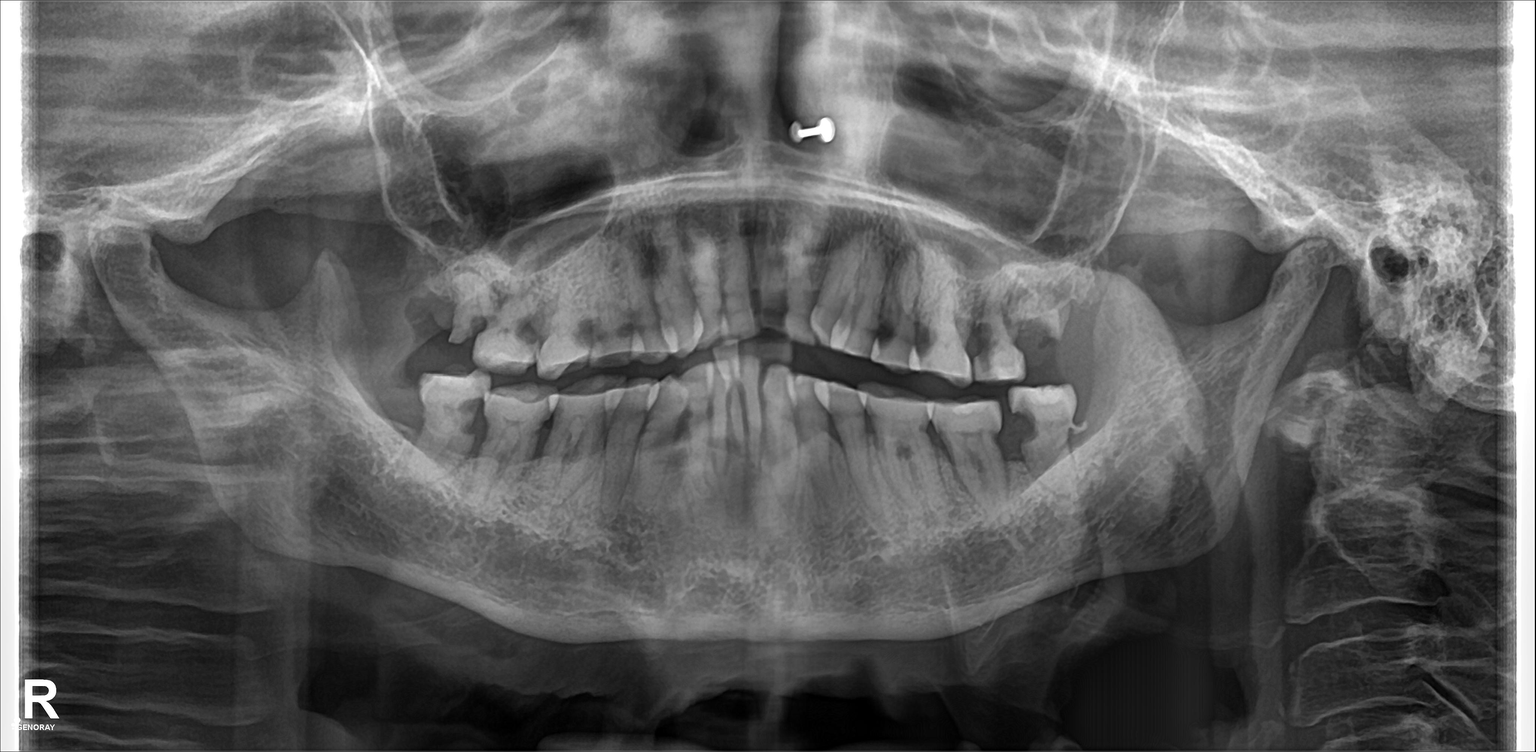Dental Caries: (441, 395, 492, 441), (1000, 413, 1044, 453)
Impacted Third Molar: (406, 382, 493, 474)
Retained Root: (1007, 270, 1080, 372), (436, 268, 495, 331)
